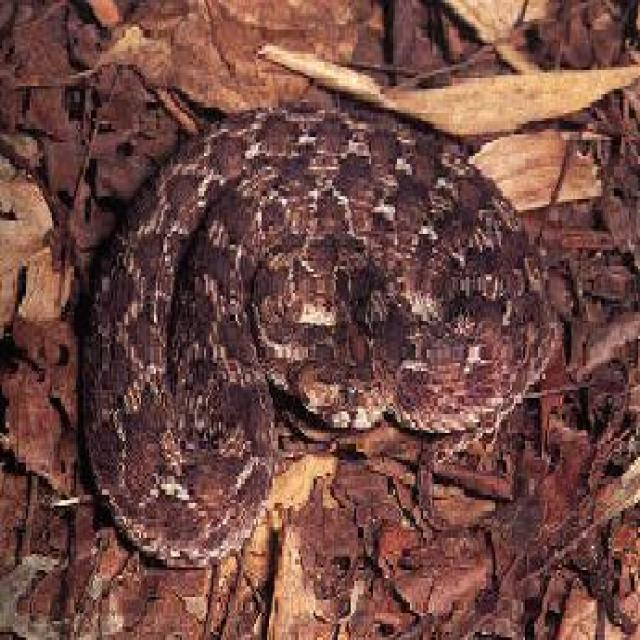Snake: (80, 91, 562, 562)
